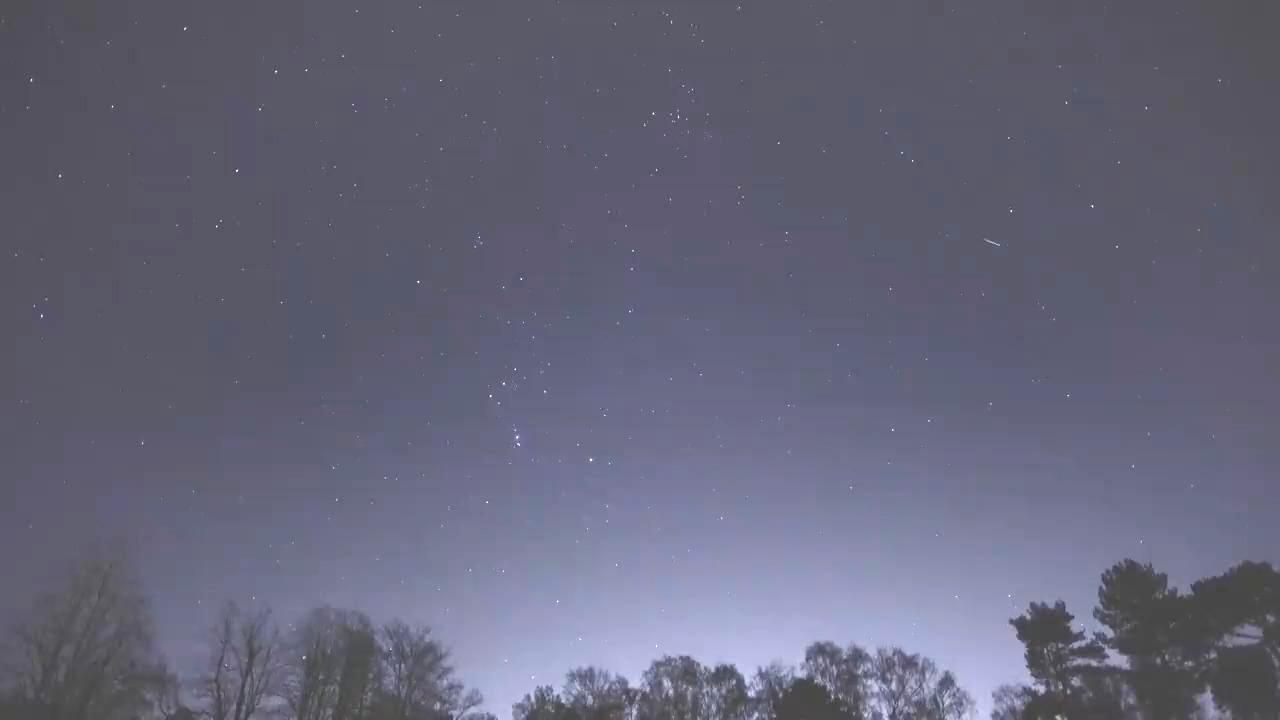meteorite: (968, 231, 1019, 254)
